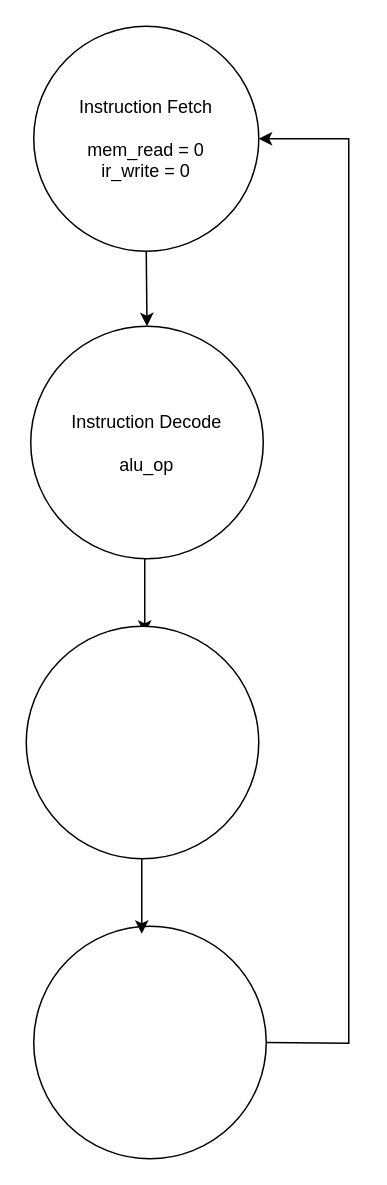
Image size: 387x1185. Some labels were removed from this diagram. Each missing label, with the centre of its shape:
Execute alu_src: (142,742)
Memory/ Writeback mem_read/ mem_write reg_write: (149,1042)
